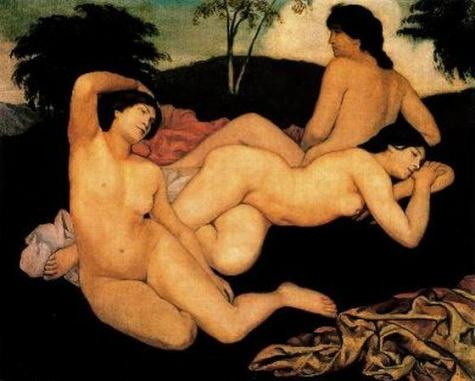person: (64, 63, 332, 346), (45, 129, 449, 285), (161, 6, 439, 164)
